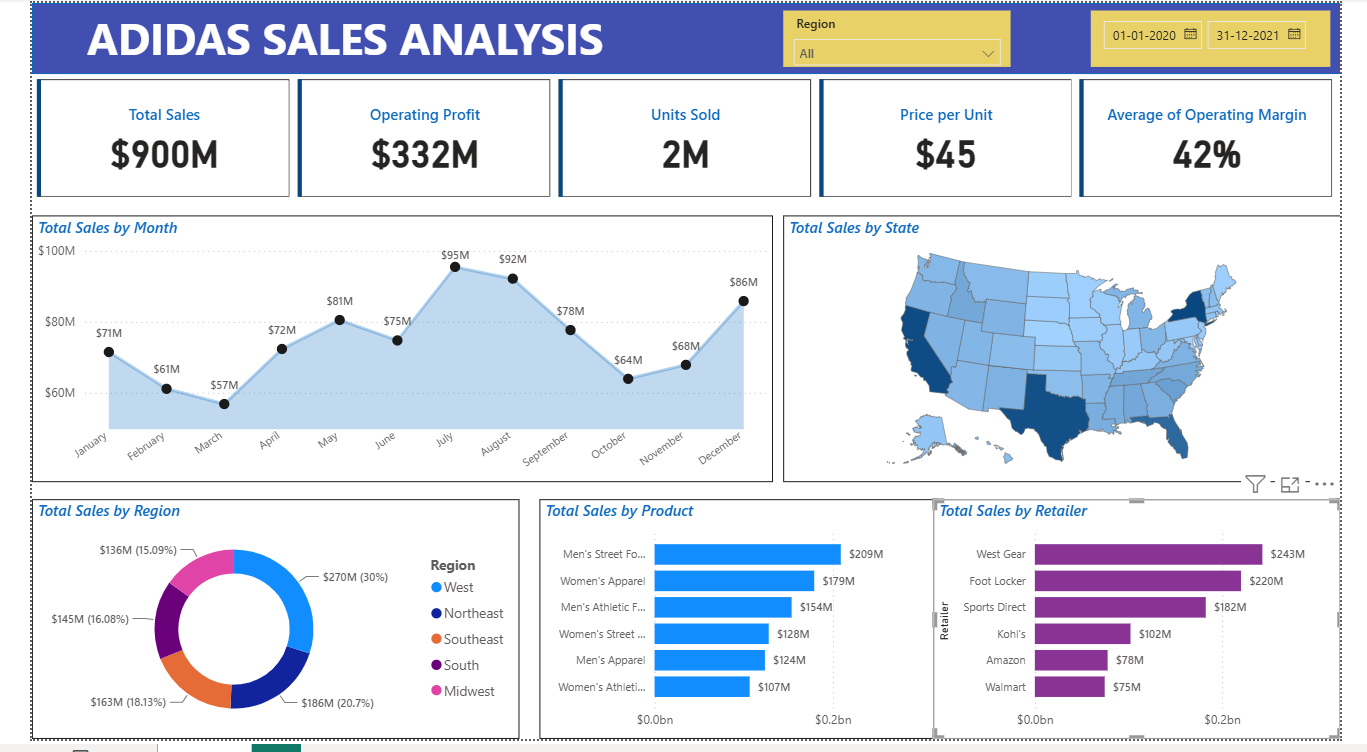

Layout of this report page (visuals, bound fields, positions):
{"tool":"powerbi","page":{"name":"Page 1","canvas":[1280,720],"ordinal":0},"visuals":[{"type":"shape","box":[0,0,1280.3,69.7],"z":0},{"type":"textbox","box":[49.4,0,628.5,82.3],"z":1000},{"type":"cardVisual","fields":{"Data":["Sum(Data Sales Adidas.Total Sales)","Sum(Data Sales Adidas.Operating Profit)","Sum(Data Sales Adidas.Units Sold)","Avg(Data Sales Adidas.Price per Unit)","Avg(Data Sales Adidas.Operating Margin)"]},"box":[0,69.7,1280.3,126],"z":2000},{"type":"areaChart","title":"Total Sales by Month","fields":{"Category":["Data Sales Adidas.Invoice Date.Variation.Date Hierarchy.Month"],"Y":["Sum(Data Sales Adidas.Total Sales)"]},"box":[0,207.9,725.1,260.5],"z":3000},{"type":"shapeMap","title":"Total Sales by State","fields":{"Category":["Data Sales Adidas.State"],"Value":["Sum(Data Sales Adidas.Units Sold)"]},"box":[734.9,207.9,545.4,260.5],"z":4000},{"type":"donutChart","title":"Total Sales by Region","fields":{"Category":["Data Sales Adidas.Region"],"Y":["Sum(Data Sales Adidas.Total Sales)"]},"box":[0,485.5,476.9,234.8],"z":5000},{"type":"barChart","title":"Total Sales by Product","fields":{"Category":["Data Sales Adidas.Product"],"Y":["Sum(Data Sales Adidas.Total Sales)"]},"box":[496.5,485.5,398.6,234.8],"z":6000},{"type":"barChart","title":"Total Sales by Retailer","fields":{"Y":["Sum(Data Sales Adidas.Total Sales)"],"Category":["Data Sales Adidas.Retailer"]},"box":[881.7,485.5,398.6,234.8],"z":7000},{"type":"slicer","fields":{"Values":["Data Sales Adidas.Region"]},"box":[734.9,7.3,222.6,55],"z":8000},{"type":"slicer","fields":{"Values":["Data Sales Adidas.Invoice Date"]},"box":[1035.7,7.3,234.8,55],"z":9000}]}

Visuals, with their boxes in screenshot pixels (x1, y1, x2, y2), scaled from the page's 1280x720 canvas onto the 1367x752 screenshot:
shape: (left=0, top=0, right=1366, bottom=73)
textbox: (left=53, top=0, right=724, bottom=86)
cardVisual - Sum(Data Sales Adidas.Total Sales) x Sum(Data Sales Adidas.Operating Profit): (left=0, top=73, right=1366, bottom=204)
"Total Sales by Month" areaChart: (left=0, top=217, right=774, bottom=489)
"Total Sales by State" shapeMap: (left=785, top=217, right=1366, bottom=489)
"Total Sales by Region" donutChart: (left=0, top=507, right=509, bottom=751)
"Total Sales by Product" barChart: (left=530, top=507, right=956, bottom=751)
"Total Sales by Retailer" barChart: (left=942, top=507, right=1366, bottom=751)
slicer - Data Sales Adidas.Region: (left=785, top=8, right=1023, bottom=65)
slicer - Data Sales Adidas.Invoice Date: (left=1106, top=8, right=1357, bottom=65)
